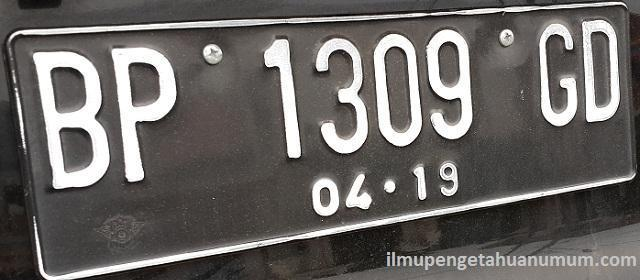0: (371, 34, 424, 152)
1: (255, 36, 308, 171)
3: (308, 34, 372, 170)
9: (423, 23, 478, 145)
B: (20, 41, 123, 202)
D: (581, 16, 624, 131)
G: (534, 21, 582, 131)
P: (104, 38, 205, 190)
